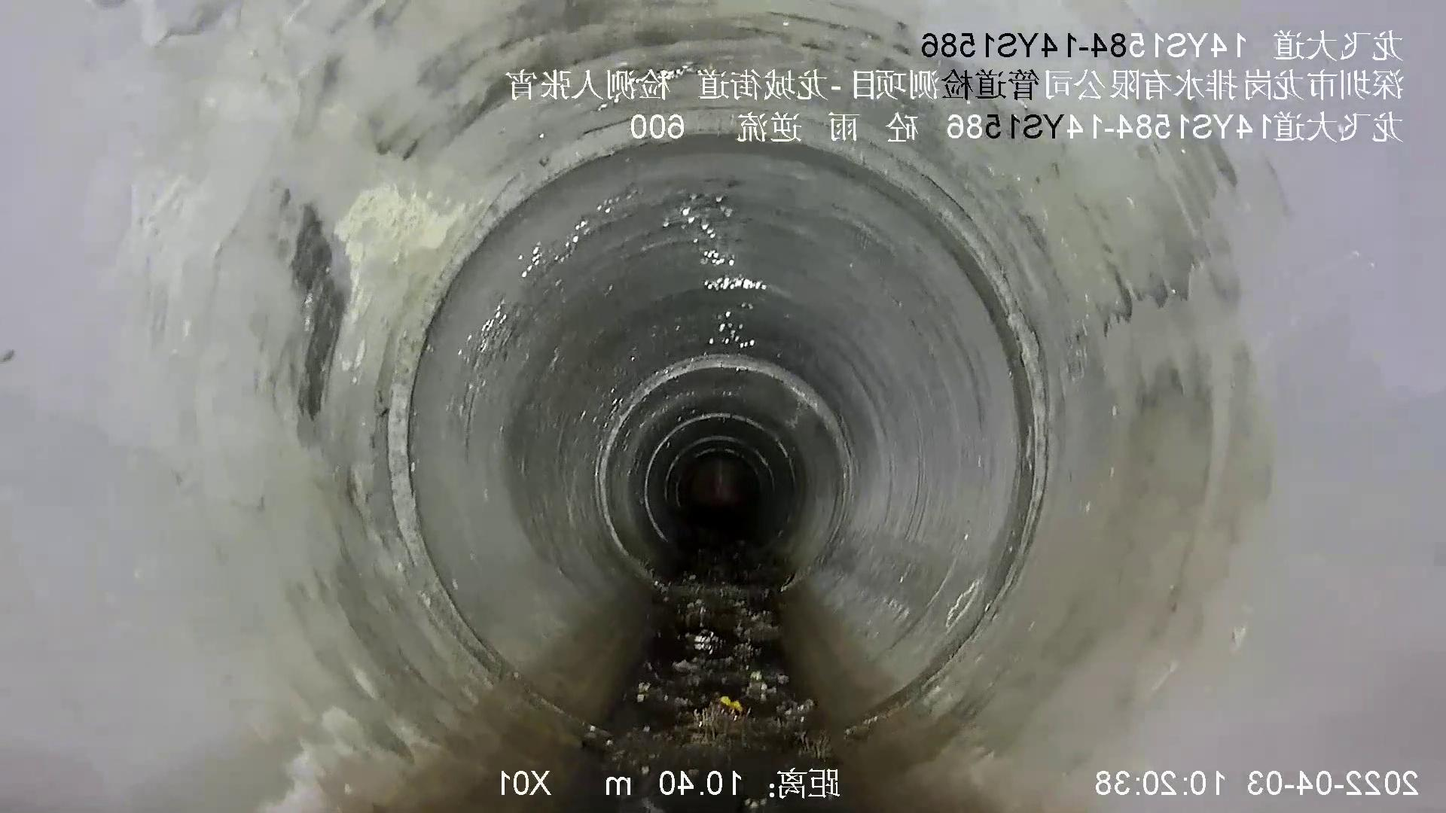CJ: (583, 513, 830, 812)
